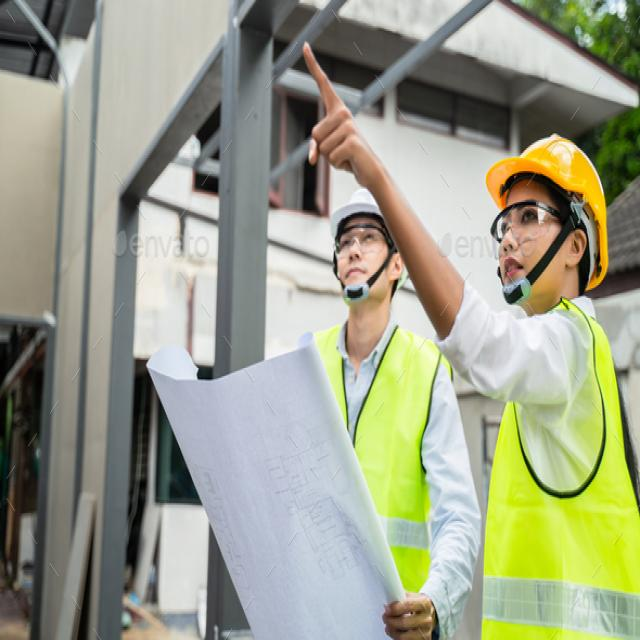goggles: (488, 193, 568, 248), (335, 228, 386, 257)
helmet: (486, 137, 614, 207), (328, 187, 396, 234)
vest: (295, 322, 444, 619), (514, 298, 639, 640)
